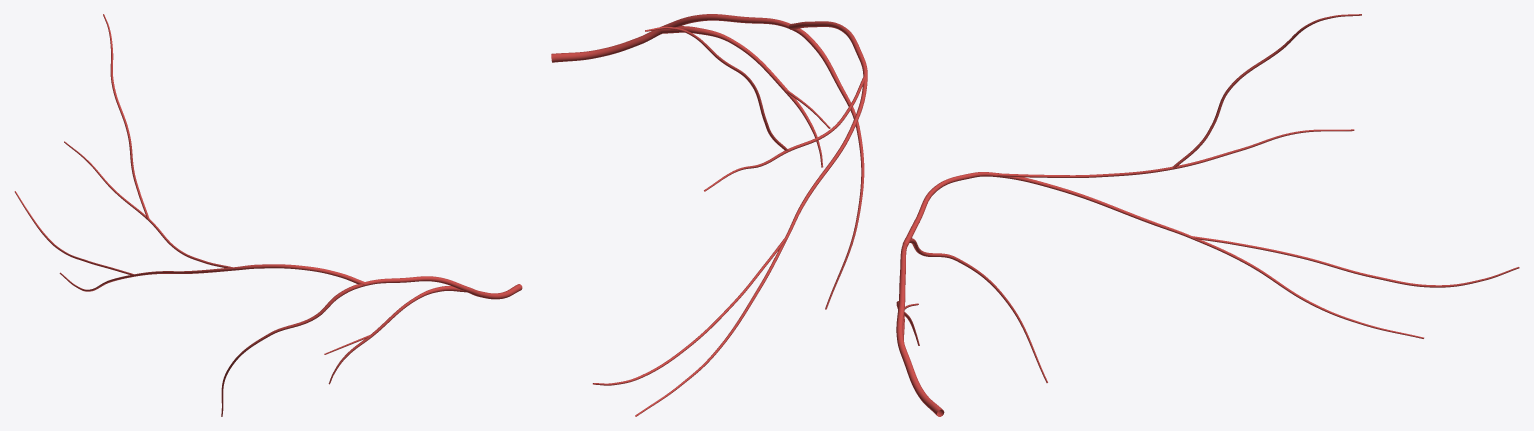
3 views of the same model, side by side, from view 1: azimuth 30°, elevation 25°; view 2: azimuth 150°, elevation 25°; view 3: azimuth 270°, elevation 25° (orthographic). The views are drawn at different scales.
Visible parts, largest first — view 1: 膈上动脉; view 2: 膈上动脉; view 3: 膈上动脉.
Part boxes in pixels (bbox=[...]): 膈上动脉: bbox=[14, 14, 522, 416]; 膈上动脉: bbox=[551, 14, 867, 416]; 膈上动脉: bbox=[896, 14, 1519, 416].
Size of the model in its own units: 0.1414 by 0.1434 by 0.2159.
